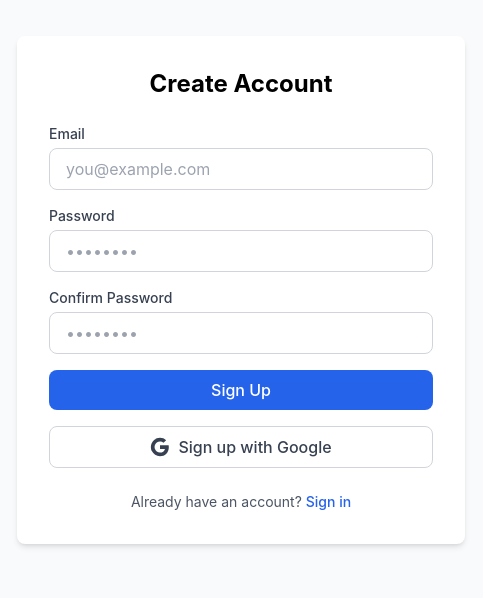
Scenario: Signup › shows error message on failed signup
The width and height of the screenshot is (483, 598).
Type "test@test.com" into the field labelled "Email" at [241, 169], box [49,148,433,190]
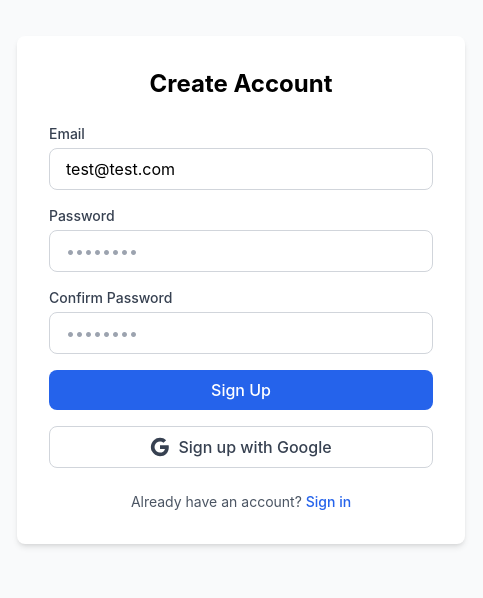
Type "password123" into the password field labelled "Password" at [241, 251], box [49,230,433,272]
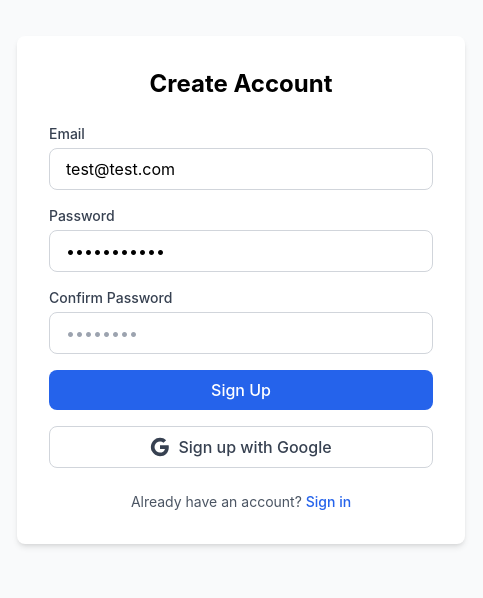
Type "password123" into the password field labelled "Confirm Password" at [241, 333], box [49,312,433,354]
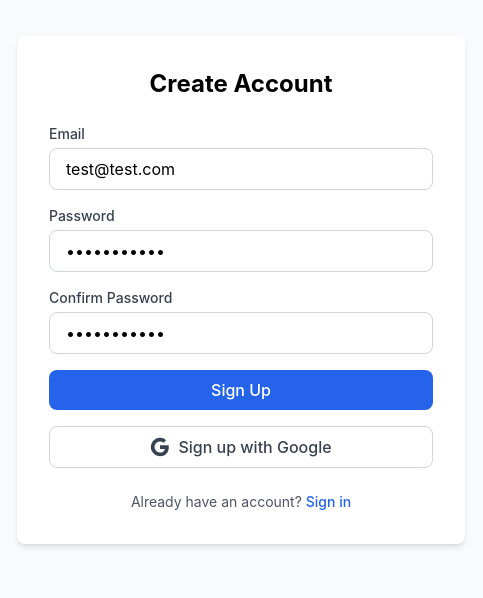
Click the button "Sign Up" at [241, 390], box [49,370,433,410]
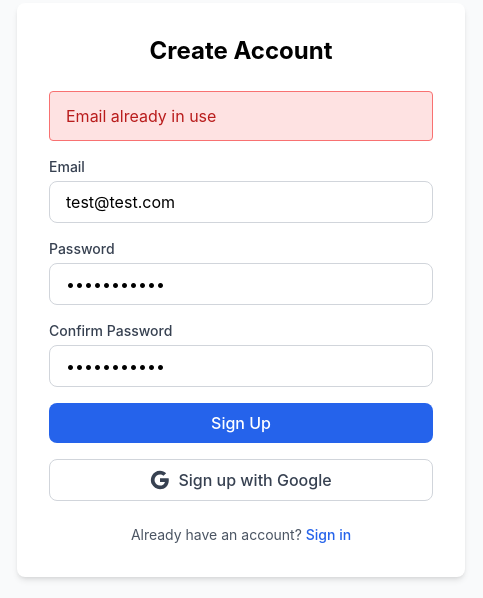
Expected: the text "Email already in use" is shown, [49,91,433,141]
